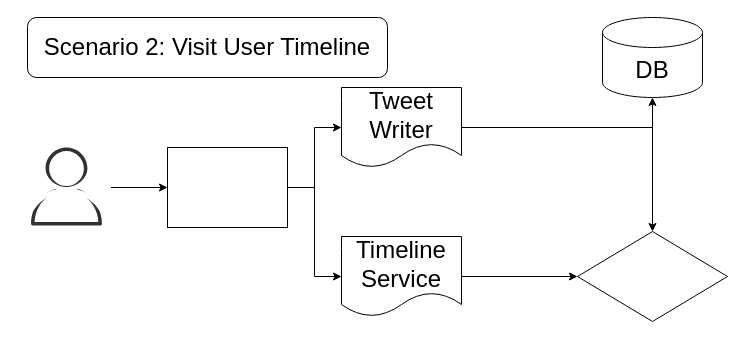
Image size: 745x339. Some labels were removed from this diagram. The box of each missing label's shape, as (x1, y1, x2, y2) in pixels:
Cache: (576, 230, 728, 322)
Load Balancer: (166, 146, 288, 228)
